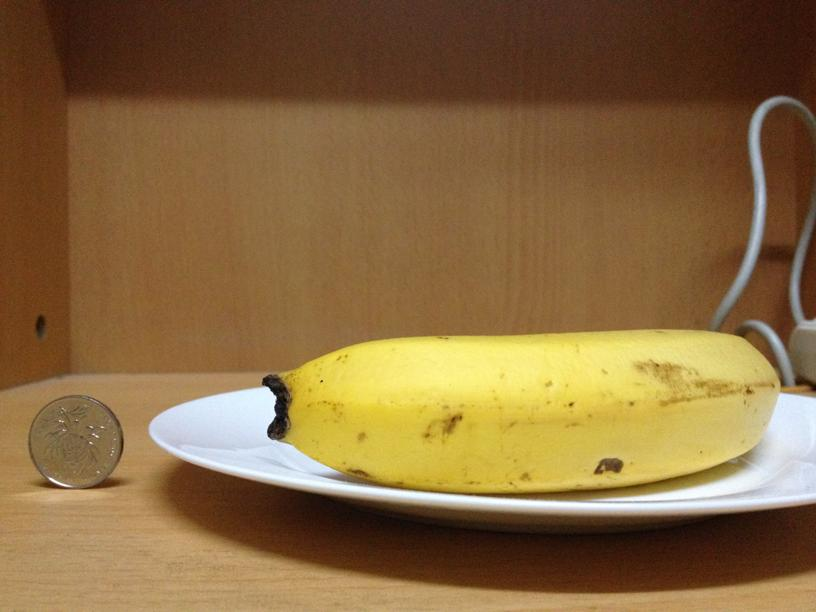banana: (274, 327, 778, 493)
coin: (24, 392, 125, 486)
